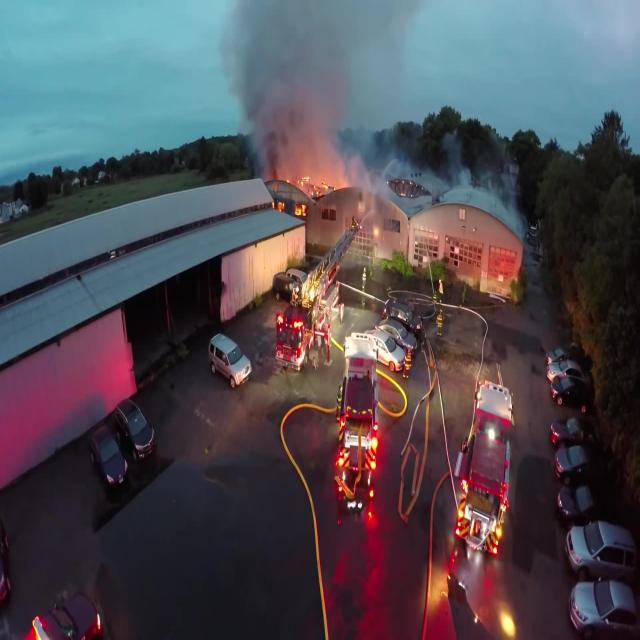Fire: (276, 176, 328, 212)
Smoke: (220, 0, 420, 188)
